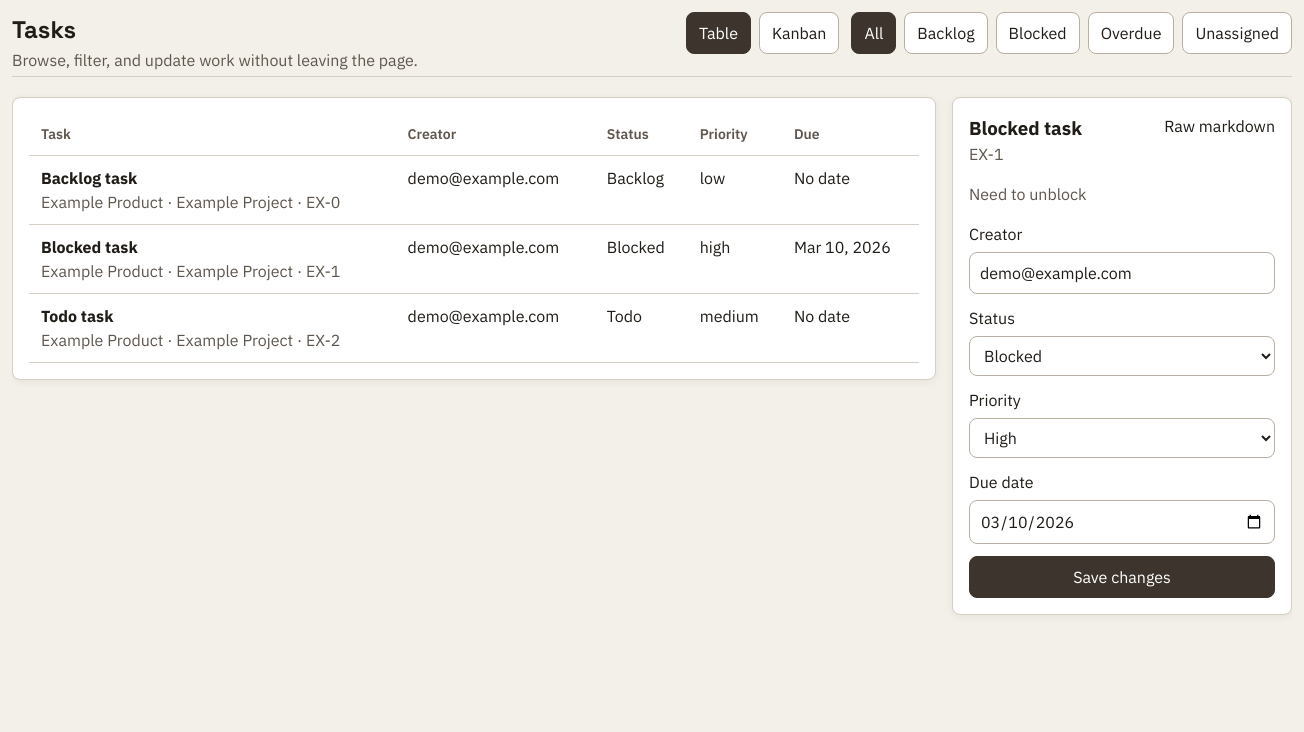
TaskWorkspace › saves task changes from the drawer
Select "Done" in the dropdown labelled "Status": coordinates (1122, 356) [969,336,1275,376]
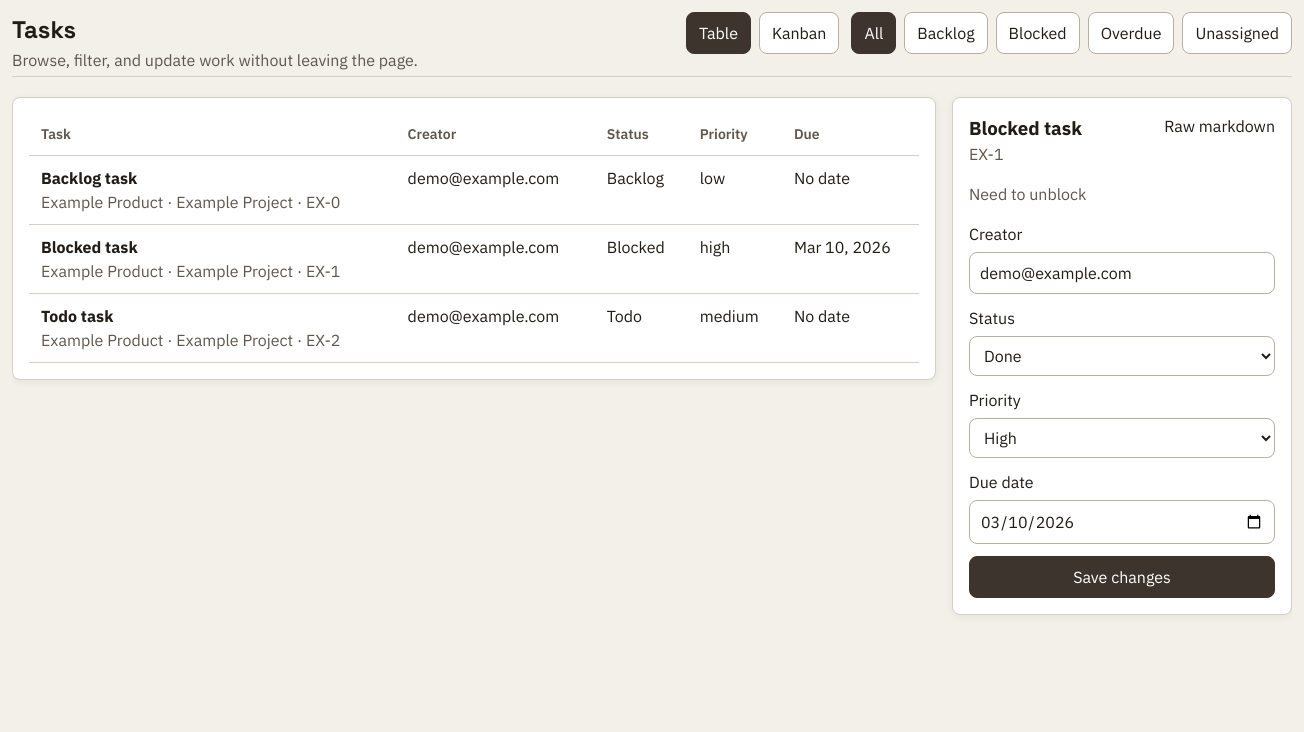
Select "Low" in the dropdown labelled "Priority": coordinates (1122, 438) [969,418,1275,458]
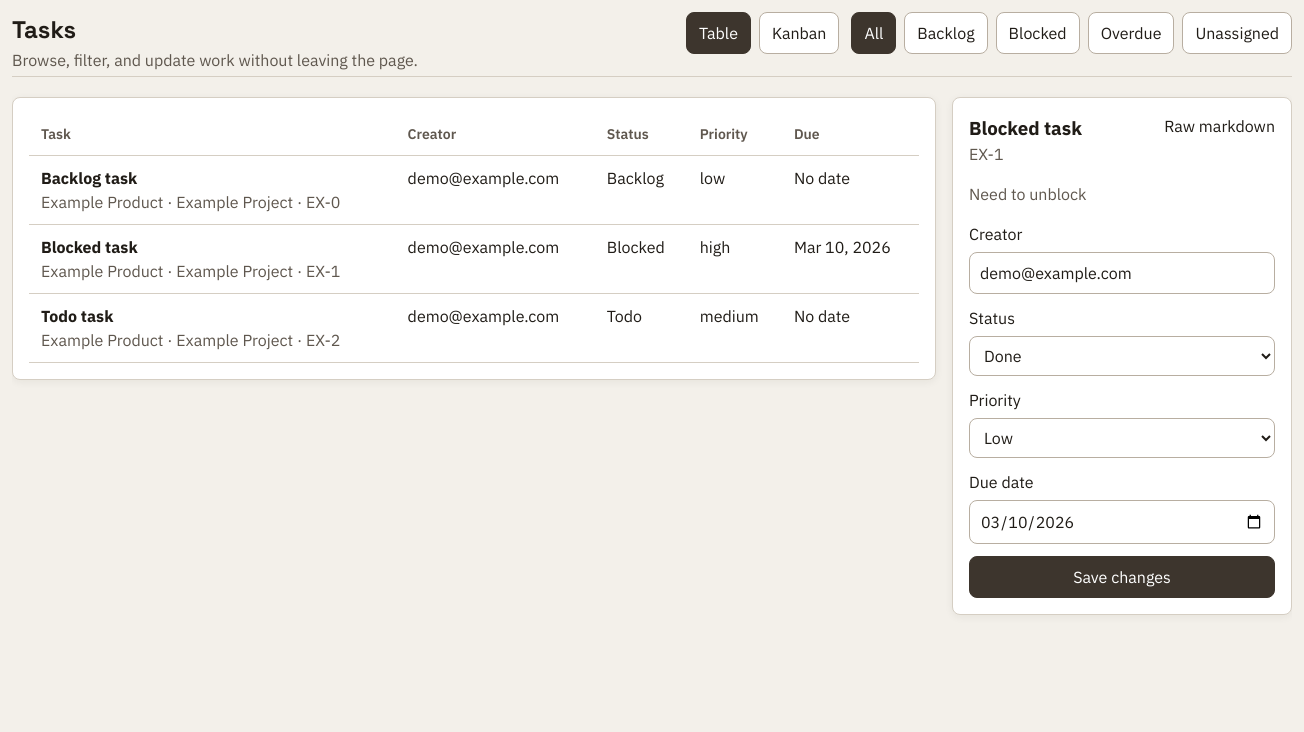
Click the button "Save changes": coordinates (1122, 577) [969,556,1275,598]
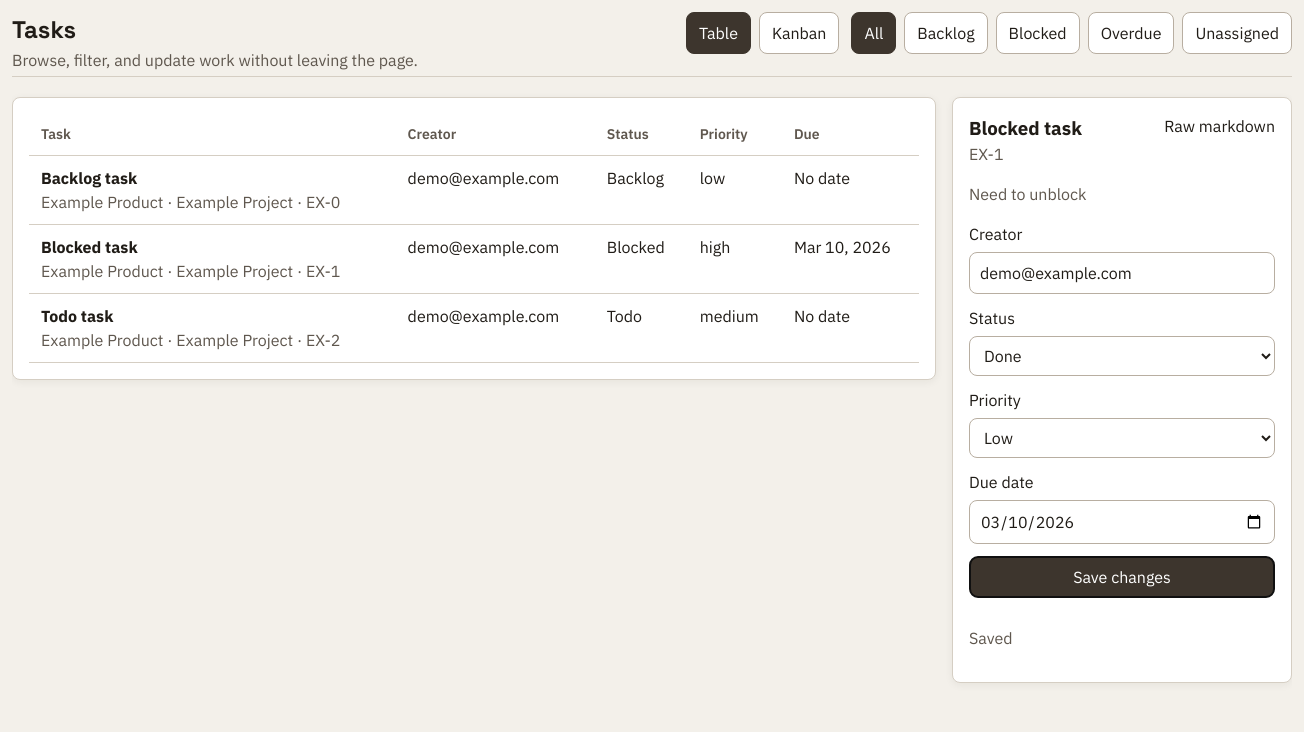
Now the text "Saved" is shown, box [969,628,1012,648]
